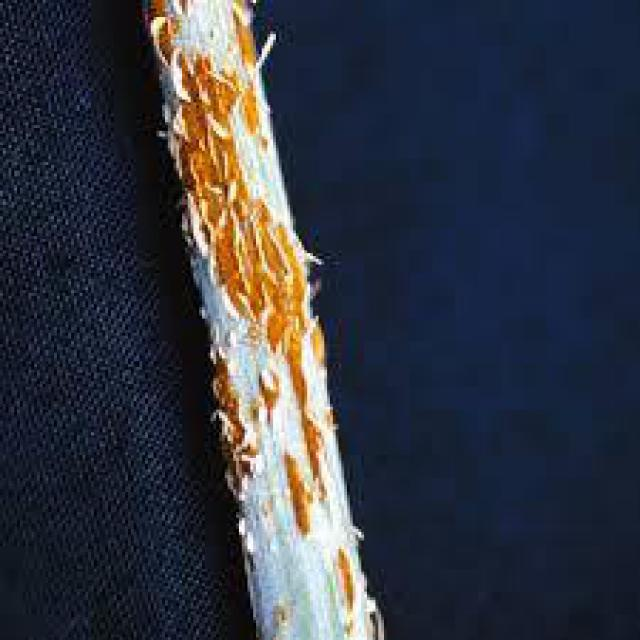wheat-stemrust: (139, 0, 384, 640)
